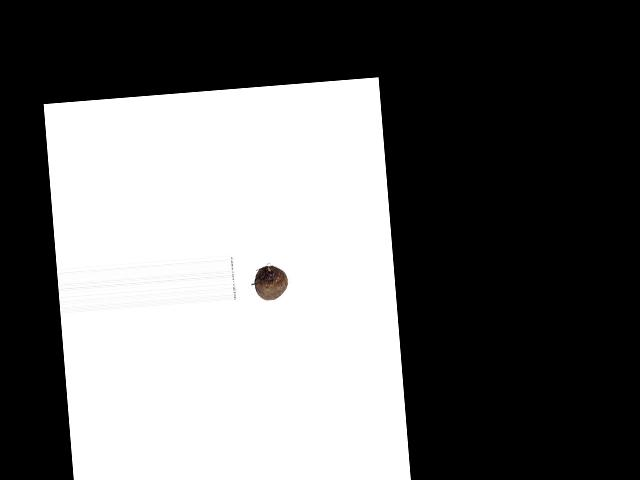beet: (253, 265, 288, 302)
